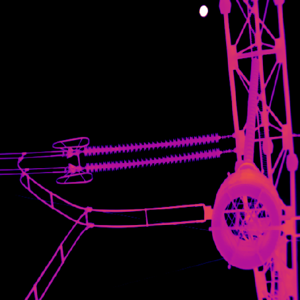insulator: (82, 133, 221, 170), (242, 57, 259, 161)
